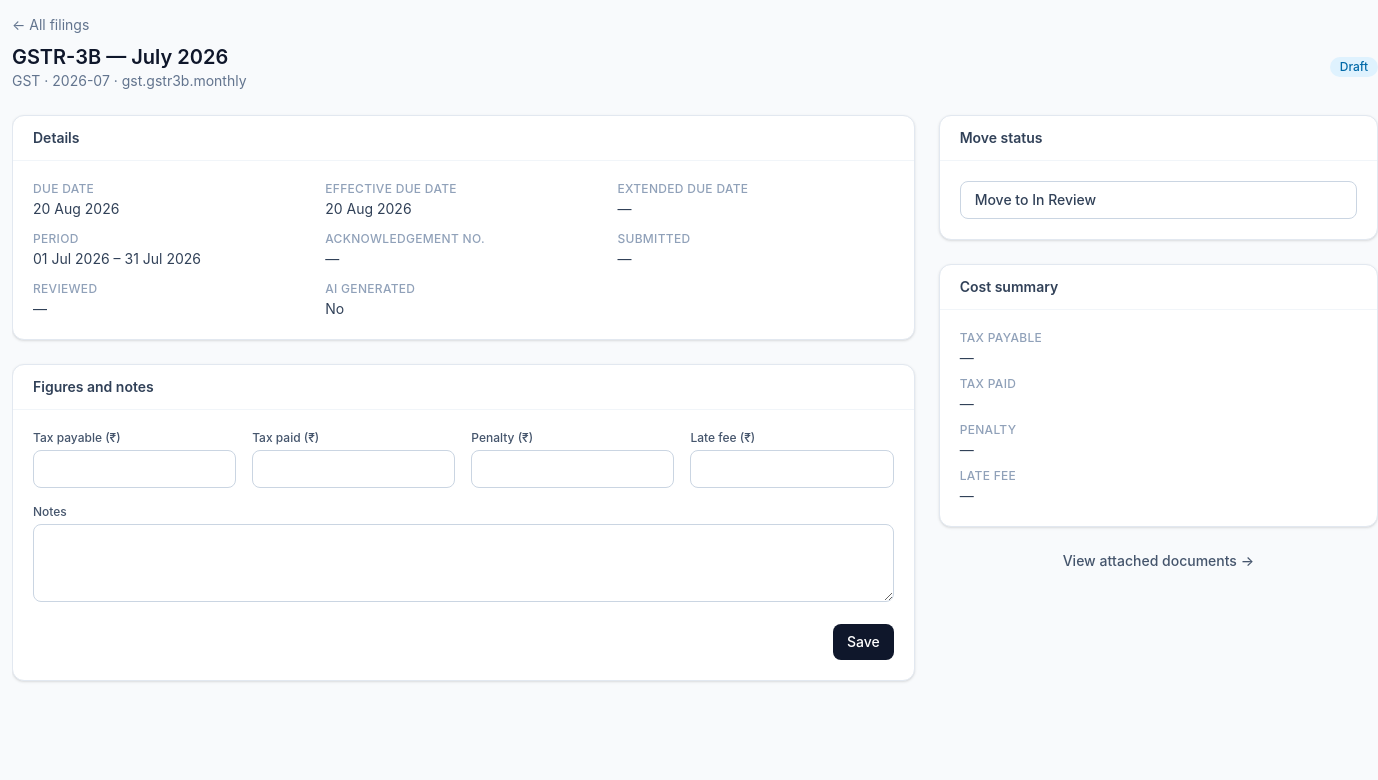
Test: FilingDetailPage › shows the server's error message when saving figures fails
Type "-5" into the field labelled "Penalty (₹)" at (573, 469), box [471,450,674,488]
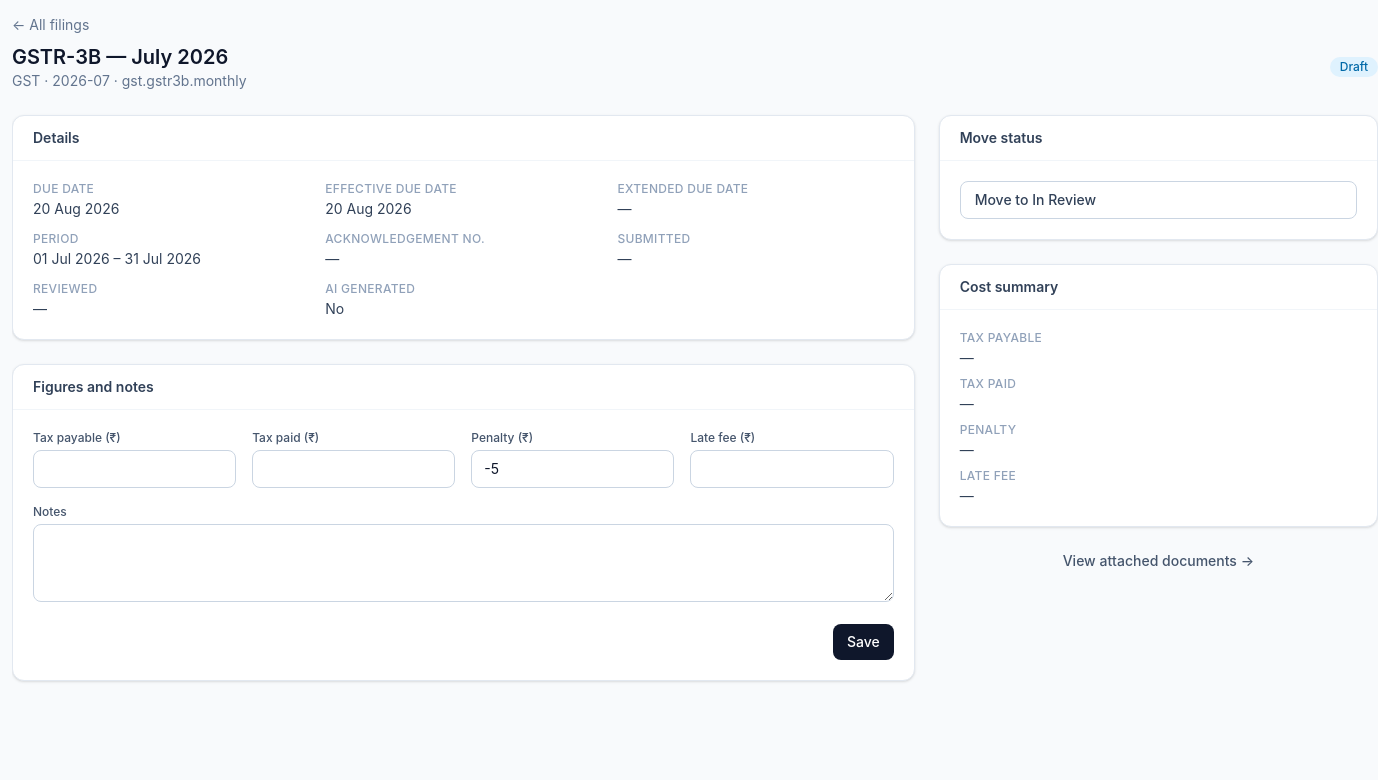
Click the button "Save" at (863, 642), box [833,624,894,660]
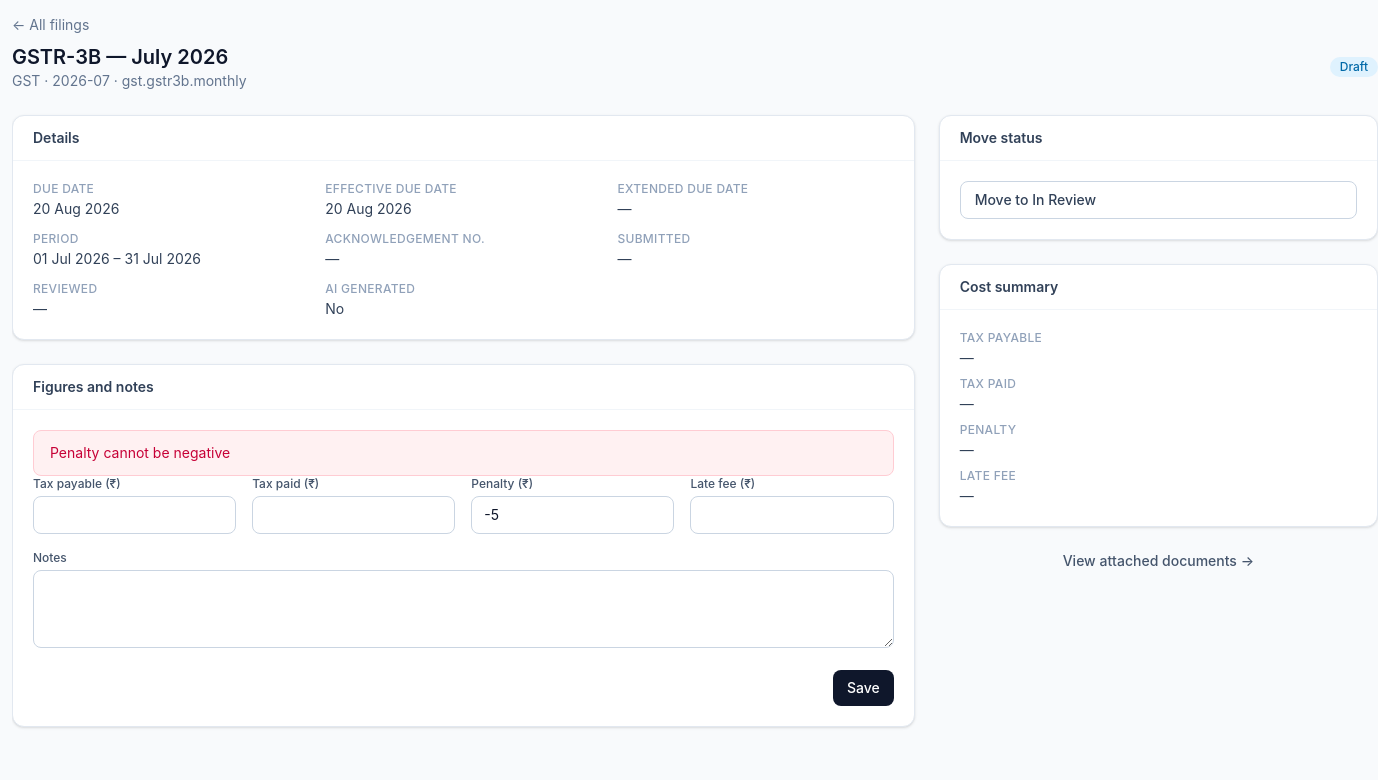
Expected: the text "Penalty cannot be negative" is shown, [33,430,894,476]
